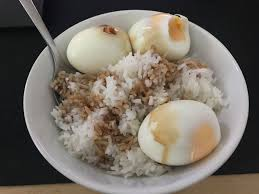egg: (141, 100, 221, 163), (60, 23, 135, 75), (125, 7, 200, 59)
rice: (58, 83, 137, 170)
